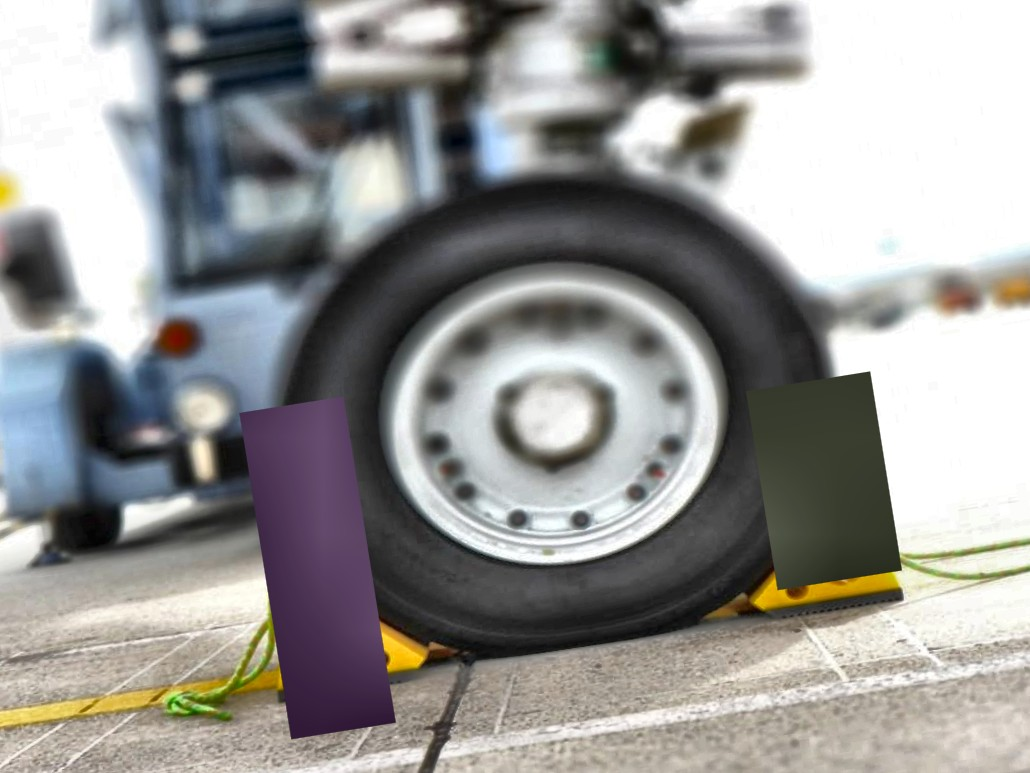chock: (254, 549, 446, 701), (723, 470, 906, 625)
wheel: (252, 139, 864, 687), (49, 499, 125, 556)
